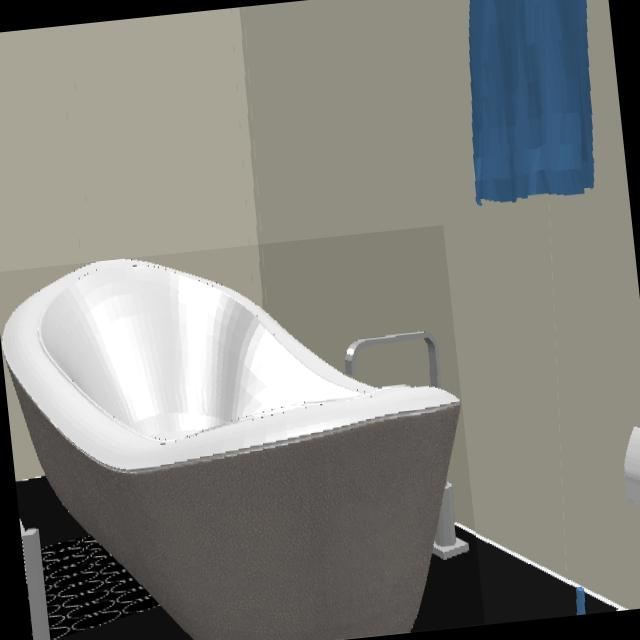bathtube: (2, 260, 467, 640)
